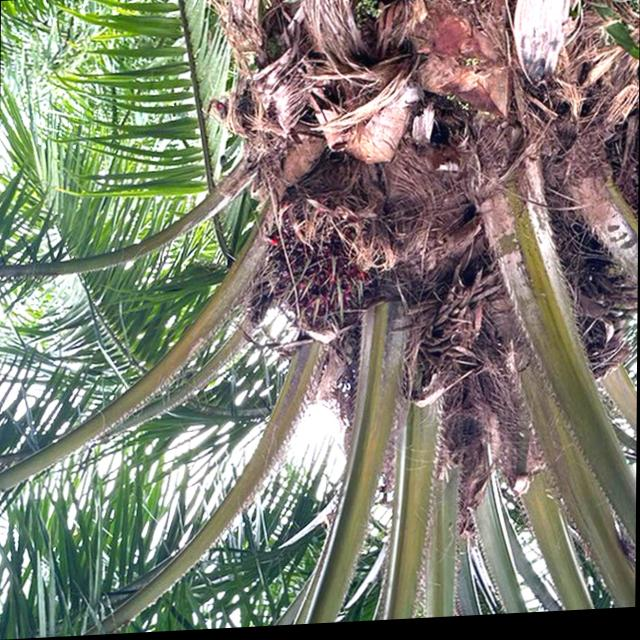ripe: (251, 220, 380, 341)
